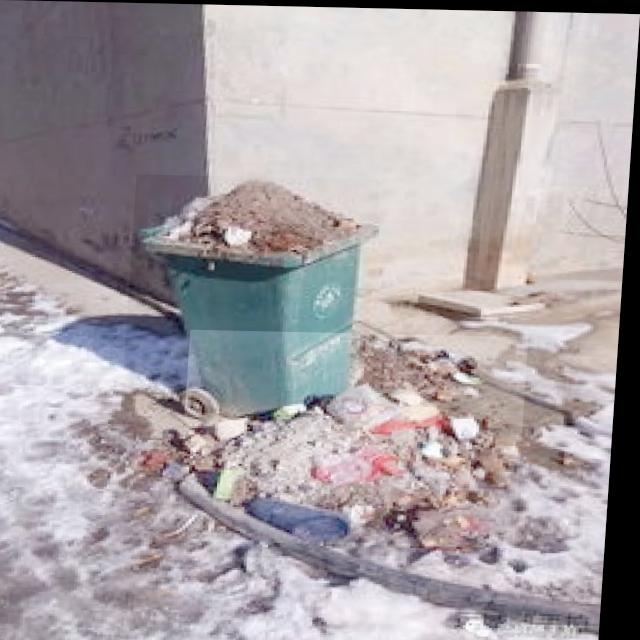garbage: (184, 329, 533, 545)
overflow: (126, 174, 382, 415)
